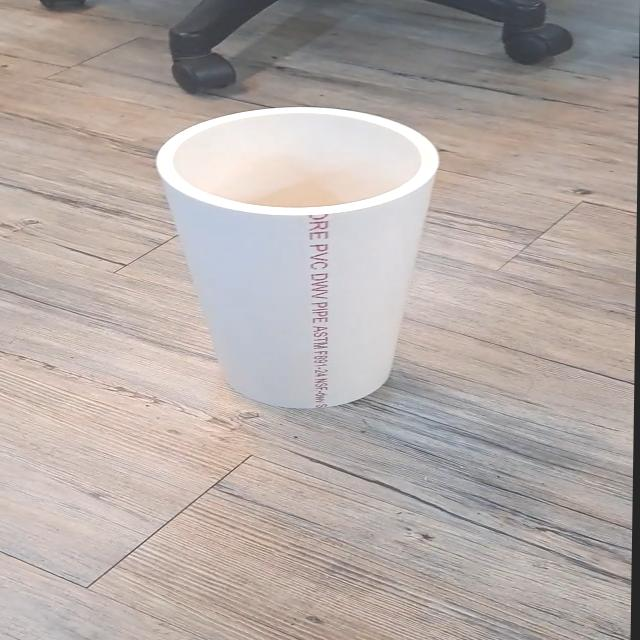CORAL: (136, 99, 462, 409)
